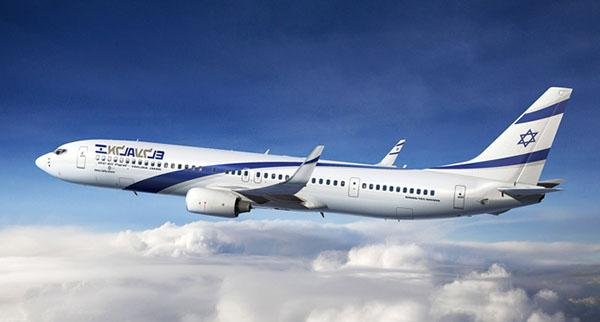airplane: (29, 84, 576, 225)
